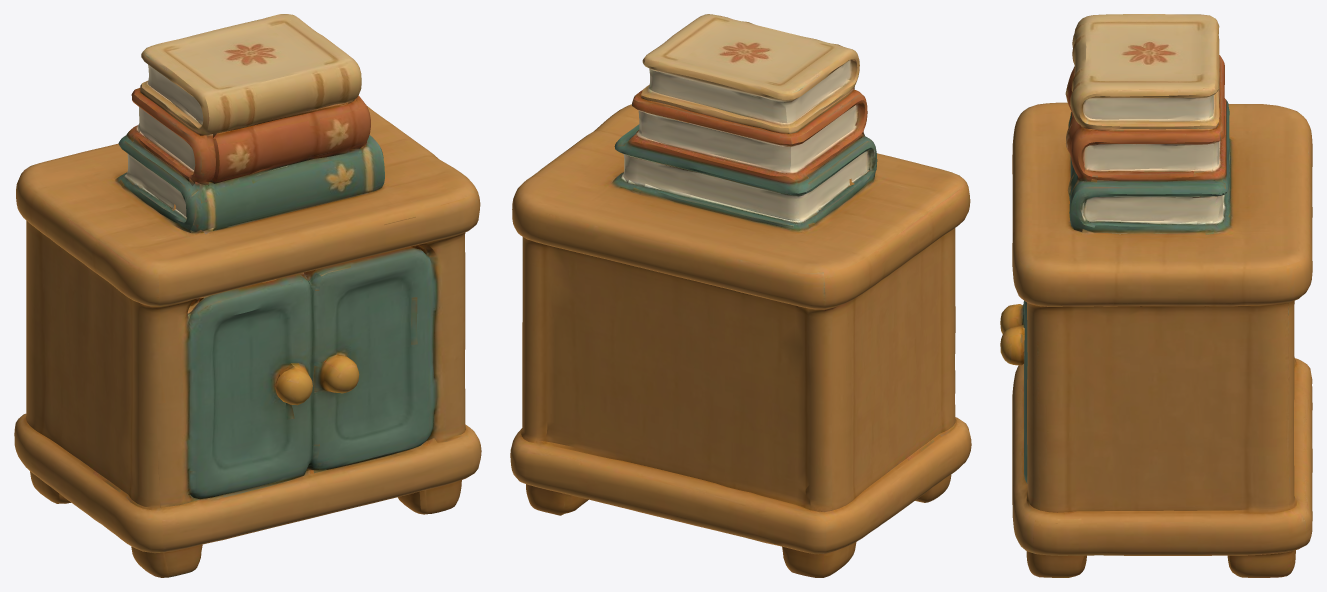
File: Meshy_AI_model.glb
3 views of the same model, side by side, from view 1: azimuth 30°, elevation 25°; view 2: azimuth 150°, elevation 25°; view 3: azimuth 270°, elevation 25° (orthographic). The views are drawn at different scales.
Visible parts, largest first — view 1: Mesh0; view 2: Mesh0; view 3: Mesh0.
Boxes of the visible parts, bbox=[...] form: Mesh0: bbox=[14, 14, 481, 577]; Mesh0: bbox=[510, 14, 971, 577]; Mesh0: bbox=[1000, 14, 1312, 577].
Bounding box in the file's own units: 1.56 × 1.9 × 1.19.
Materials: 1 (1 with a texture image).
